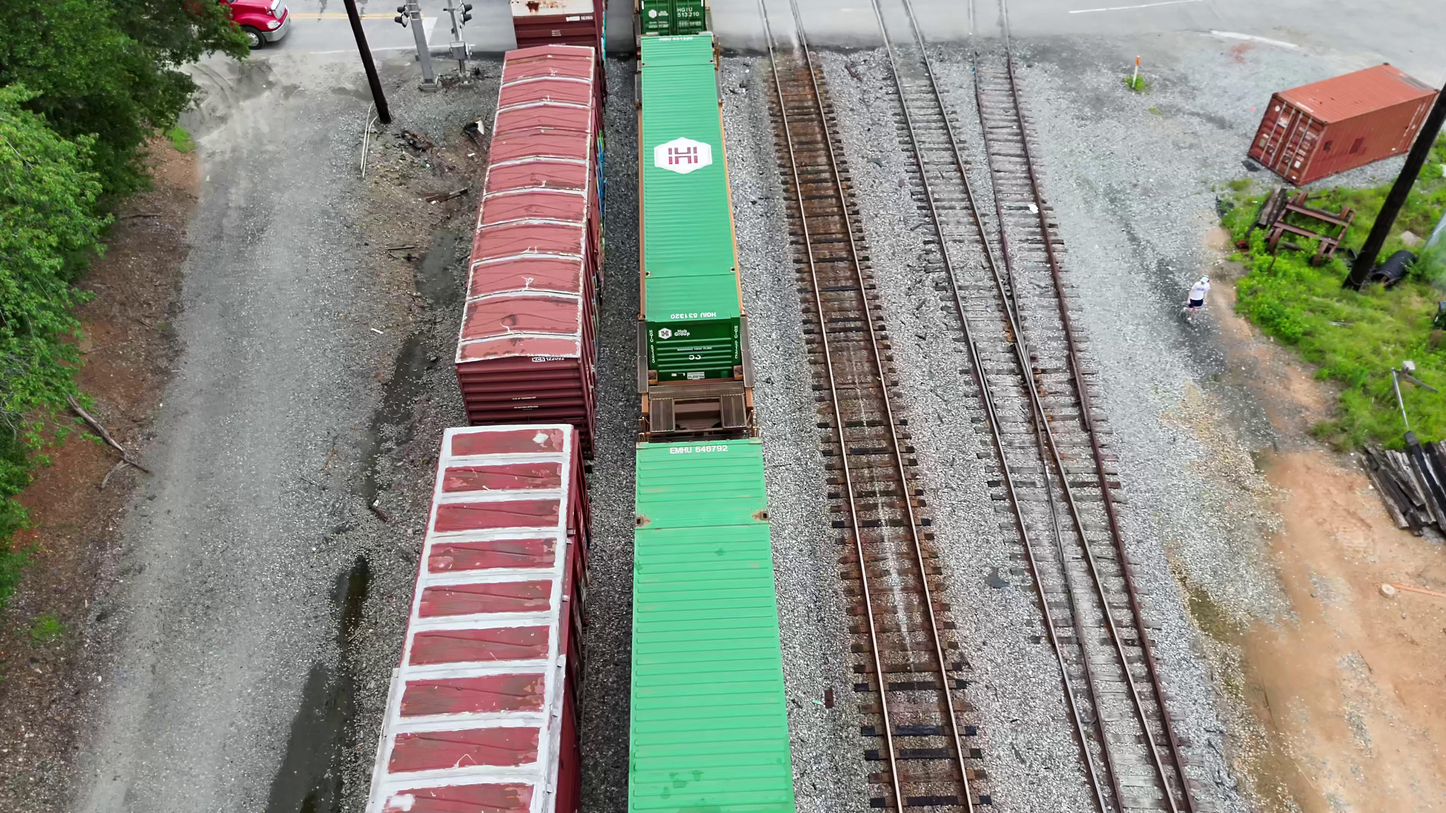human: (1183, 274, 1212, 324)
